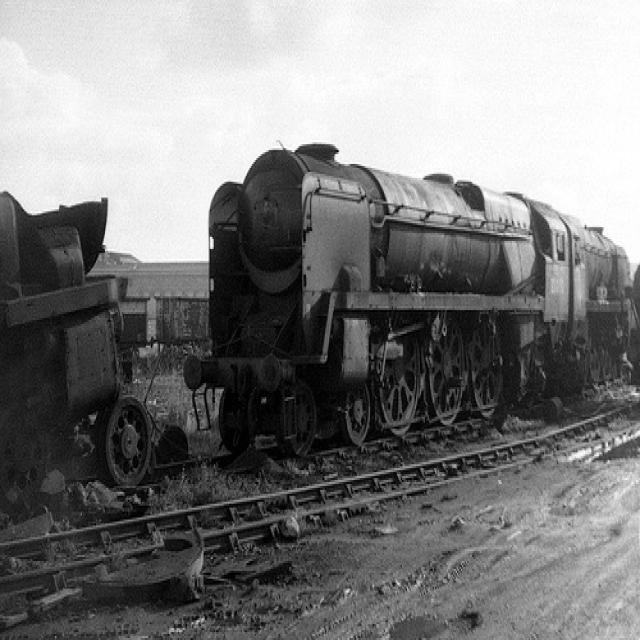train: (194, 134, 634, 478)
